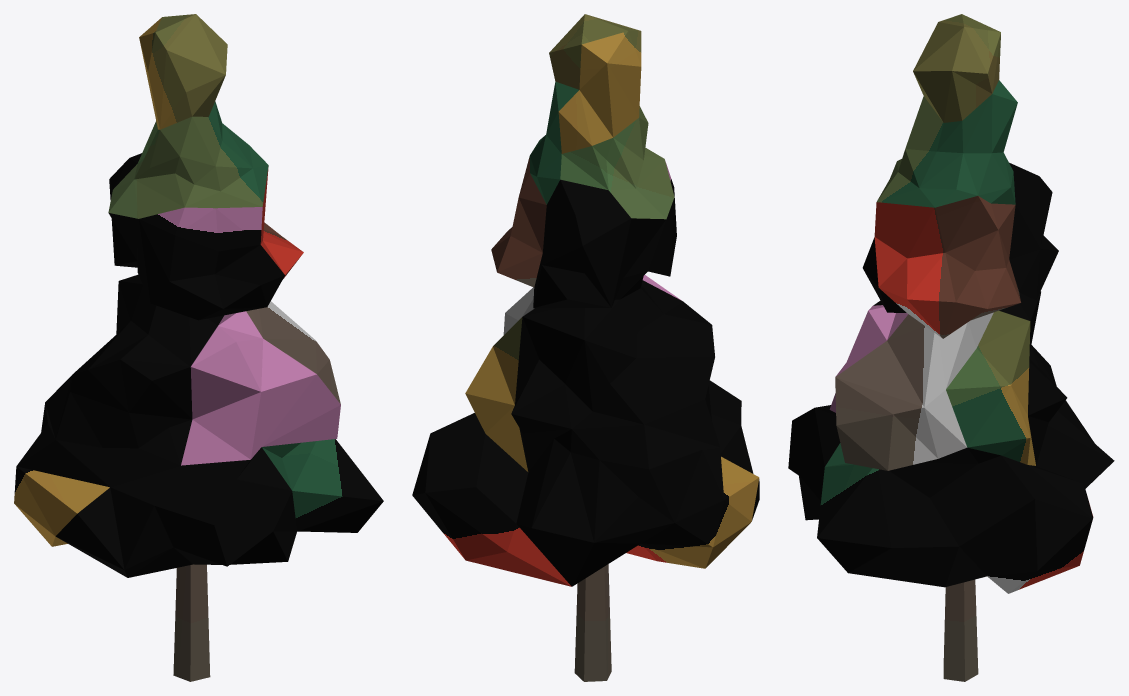
Rendered from Spruce.fbx.
3 views of the same model, side by side, from view 1: azimuth 30°, elevation 25°; view 2: azimuth 150°, elevation 25°; view 3: azimuth 270°, elevation 25° (orthographic).
Parts seen in each view (by area): view 1: Spruce; view 2: Spruce; view 3: Spruce.
Boxes of the visible parts, x1,y1,x2,y2 form: Spruce: (14, 14, 383, 681); Spruce: (412, 14, 759, 681); Spruce: (788, 14, 1114, 681).
Size of the model in its own units: 299 by 638 by 290.
